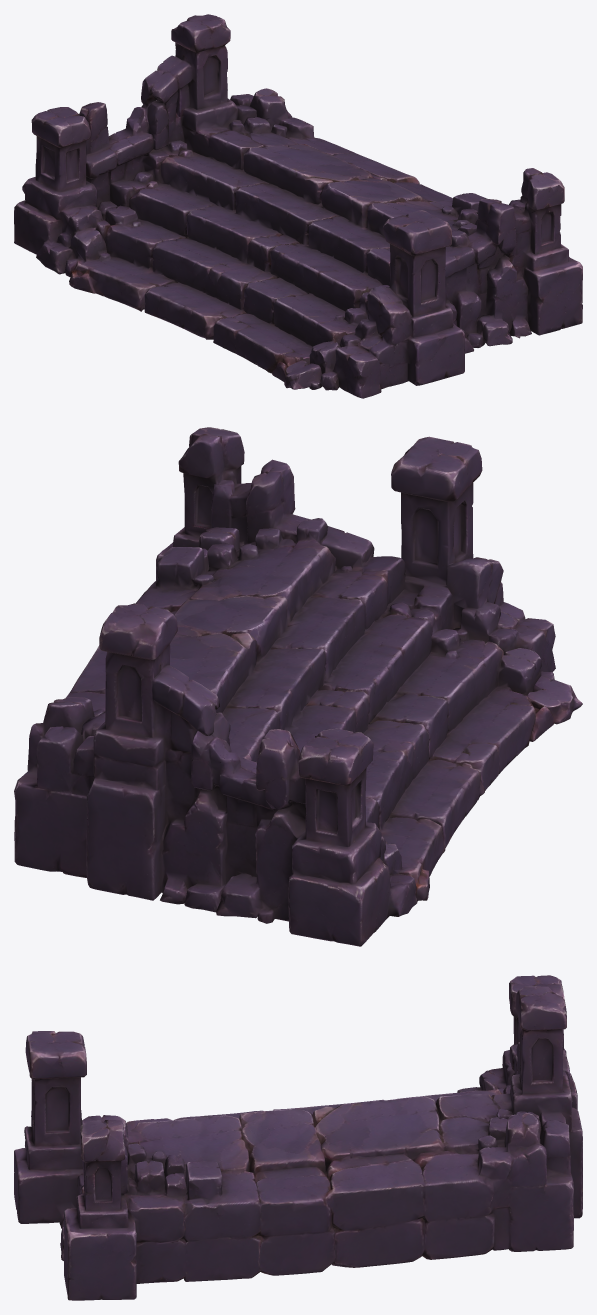
Rendered from approach_stairs.glb.
The picture shows the model from 3 angles, top to bottom: view 1: azimuth 30°, elevation 25°; view 2: azimuth 150°, elevation 25°; view 3: azimuth 270°, elevation 25°; orthographic projection. The views are drawn at different scales.
Visible parts, largest first — view 1: tripo_node_bb135f39-803e-4851-97f4-6e072821733b; view 2: tripo_node_bb135f39-803e-4851-97f4-6e072821733b; view 3: tripo_node_bb135f39-803e-4851-97f4-6e072821733b.
Part boxes in pixels (<box>): tripo_node_bb135f39-803e-4851-97f4-6e072821733b: <box>14,14,582,398</box>; tripo_node_bb135f39-803e-4851-97f4-6e072821733b: <box>14,427,582,946</box>; tripo_node_bb135f39-803e-4851-97f4-6e072821733b: <box>14,975,582,1300</box>.
Size of the model in its own units: 0.7907 by 0.4332 by 1.
1 material, 1 textured.
